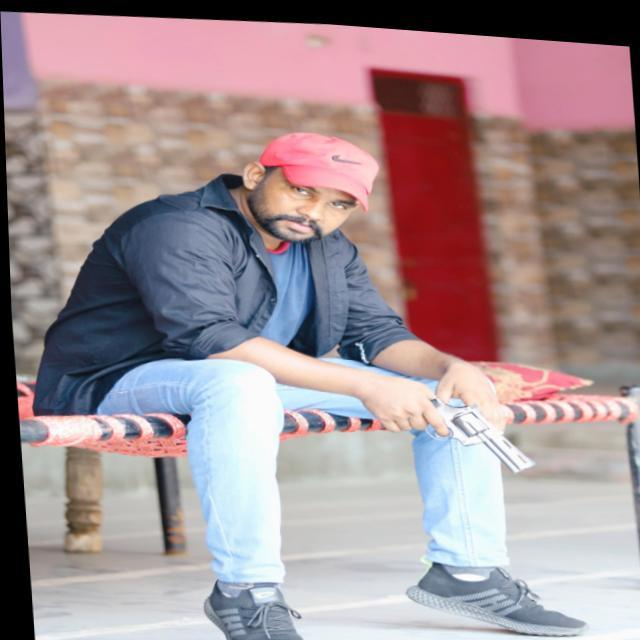weapon: (379, 380, 538, 474)
